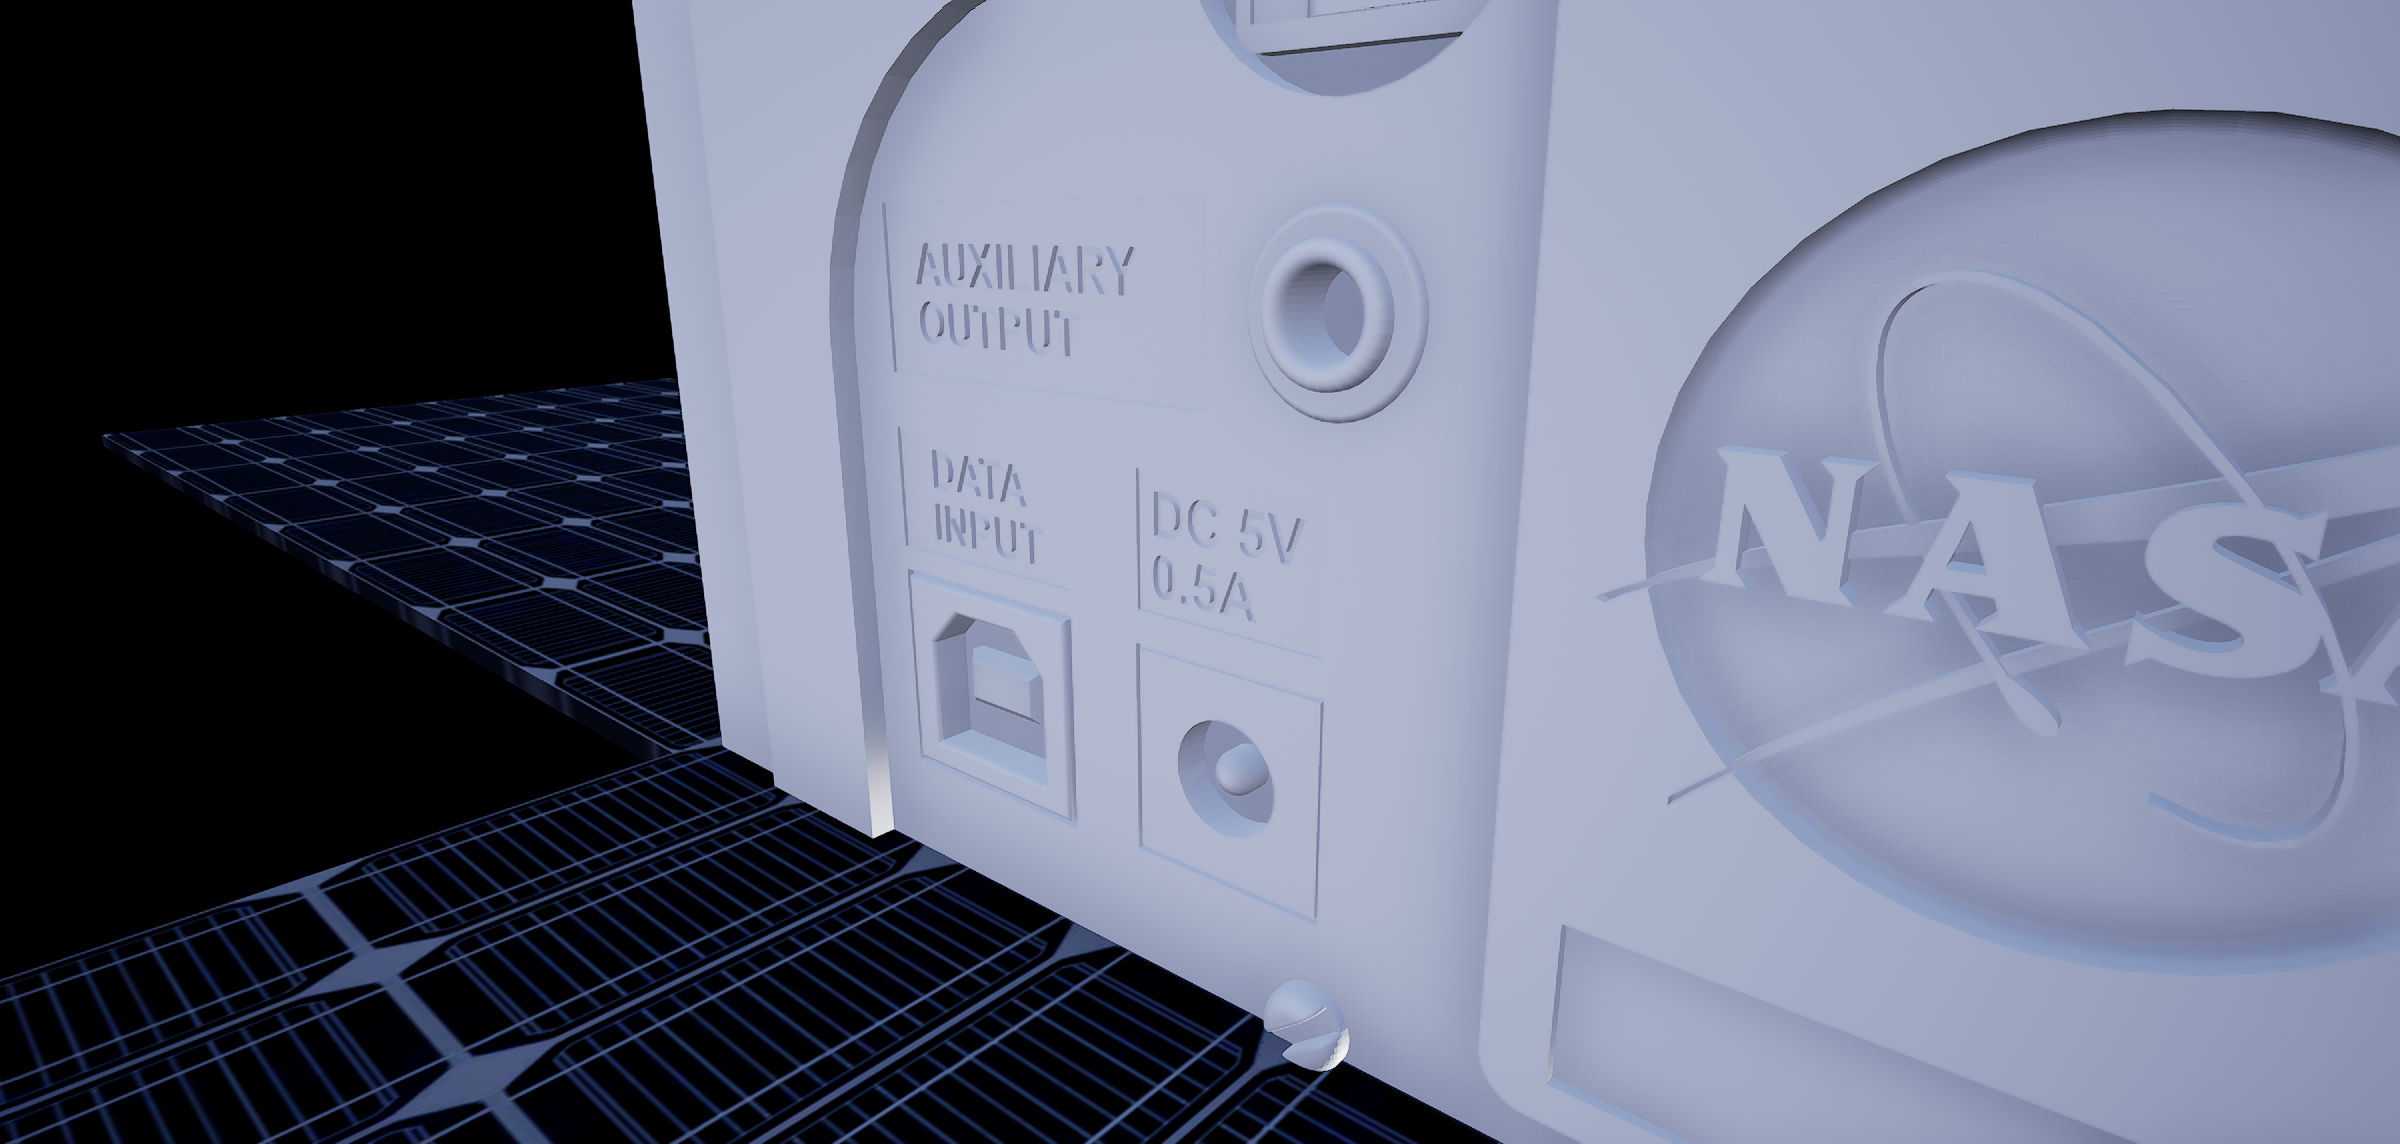aux: (1234, 194, 1453, 450)
dc: (1176, 698, 1275, 858)
usb: (928, 599, 1055, 784)
